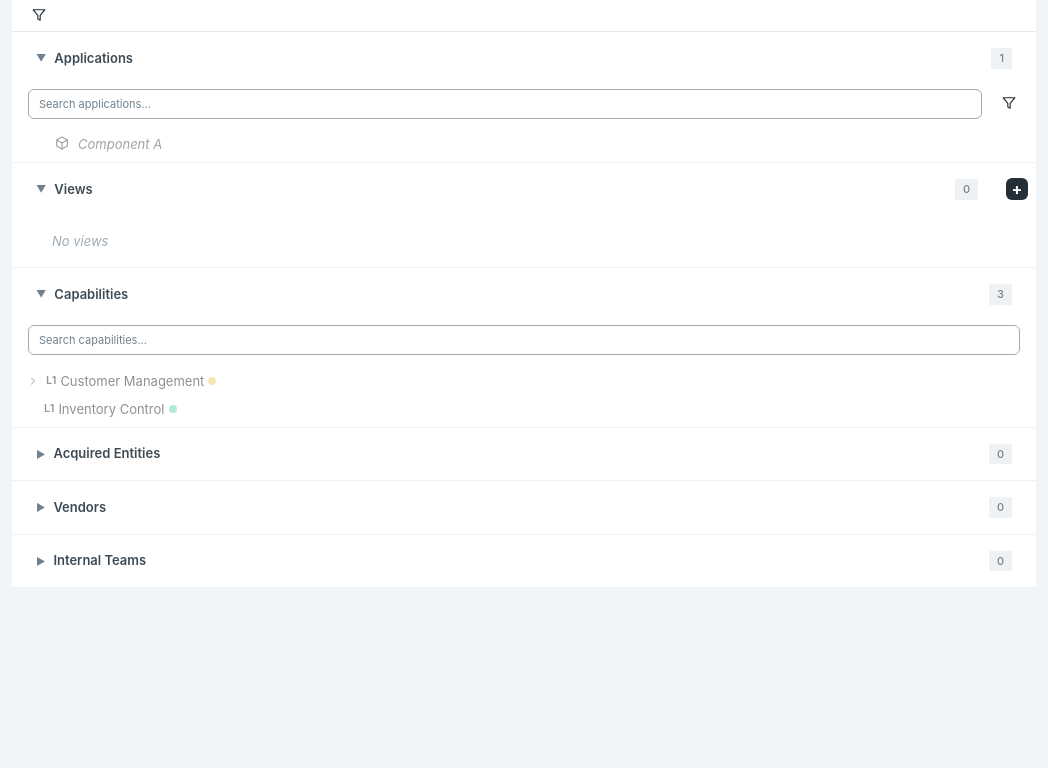
Scenario: Capability Expand/Collapse in Tree › should toggle children visibility when expand button is clicked
The width and height of the screenshot is (1048, 768).
Check: the text "Customer Management" is shown, box [60,372,204,388]
Check: the text "Order Processing" is not shown
Click the button named "Expand". click: point(33, 381)
box: [24,372,42,390]
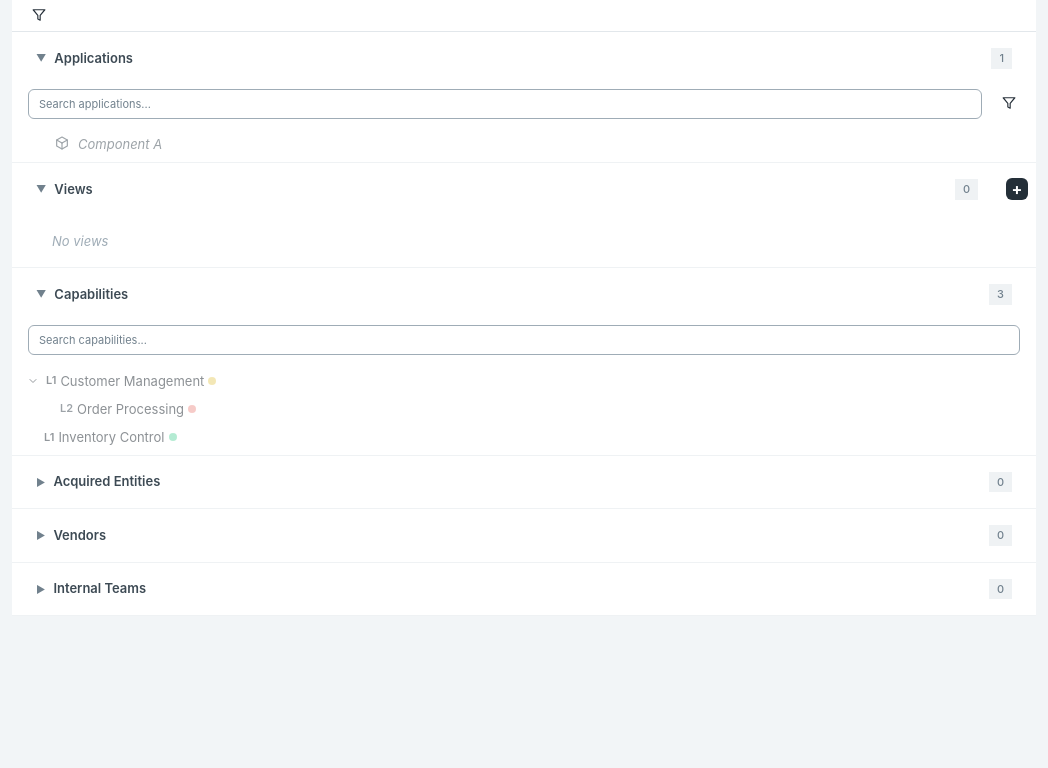
Check: the text "Order Processing" is shown, box [77,401,184,417]
